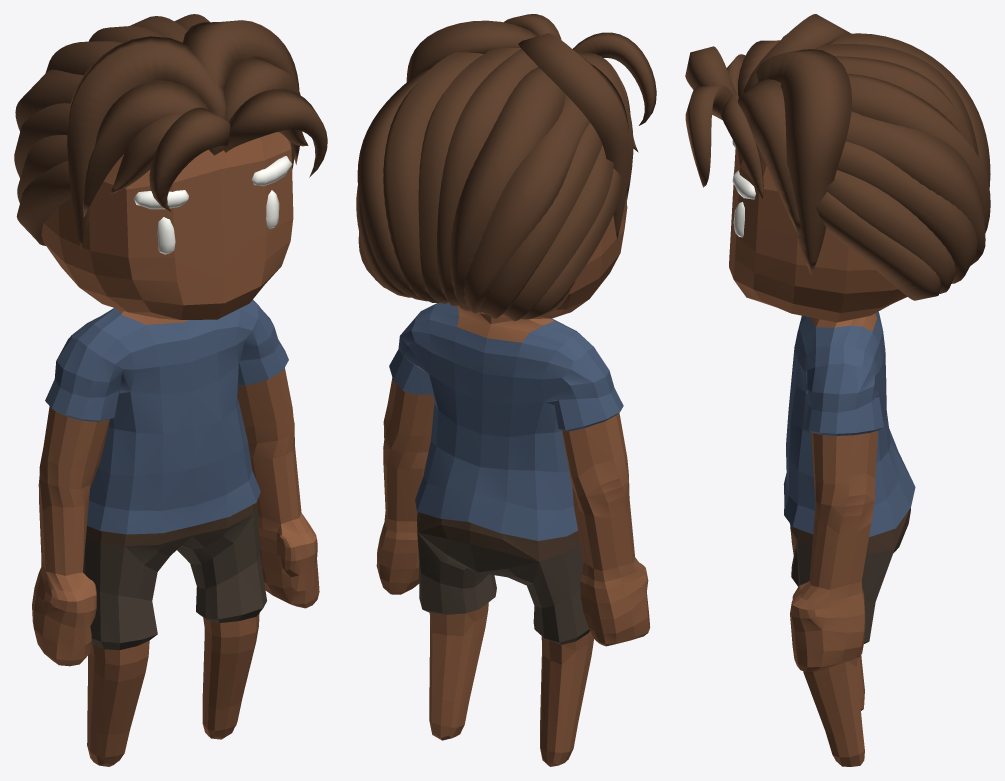
Rendered from debout-casual-male.glb.
The picture shows the model from 3 angles, left to right: view 1: azimuth 30°, elevation 25°; view 2: azimuth 150°, elevation 25°; view 3: azimuth 270°, elevation 25°; orthographic projection. The views are drawn at different scales.
Visible parts, largest first — view 1: Cube004, Cube004_5, Cube004_1, Cube004_2, Cube004_4, Cube004_3; view 2: Cube004_5, Cube004, Cube004_1, Cube004_2, Cube004_3; view 3: Cube004_5, Cube004, Cube004_1, Cube004_2, Cube004_3, Cube004_4.
Boxes of the visible parts, <box> form: Cube004: <box>32,132,319,766</box>; Cube004_5: <box>14,14,327,251</box>; Cube004_1: <box>45,300,288,534</box>; Cube004_2: <box>83,506,266,650</box>; Cube004_4: <box>133,156,292,254</box>; Cube004_3: <box>86,502,257,546</box>; Cube004_5: <box>356,14,656,321</box>; Cube004: <box>376,145,650,766</box>; Cube004_1: <box>389,303,623,540</box>; Cube004_2: <box>417,532,589,644</box>; Cube004_3: <box>417,512,580,561</box>; Cube004_5: <box>685,14,990,300</box>; Cube004: <box>729,145,907,766</box>; Cube004_1: <box>783,311,915,536</box>; Cube004_2: <box>791,525,907,643</box>; Cube004_3: <box>790,508,910,553</box>; Cube004_4: <box>732,140,755,237</box>.
Bounding box in the file's own units: 0.687 × 1.75 × 0.6905.
